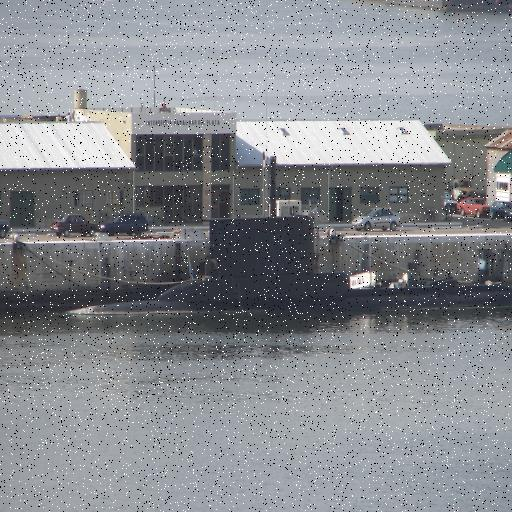submarine: (71, 215, 512, 318)
